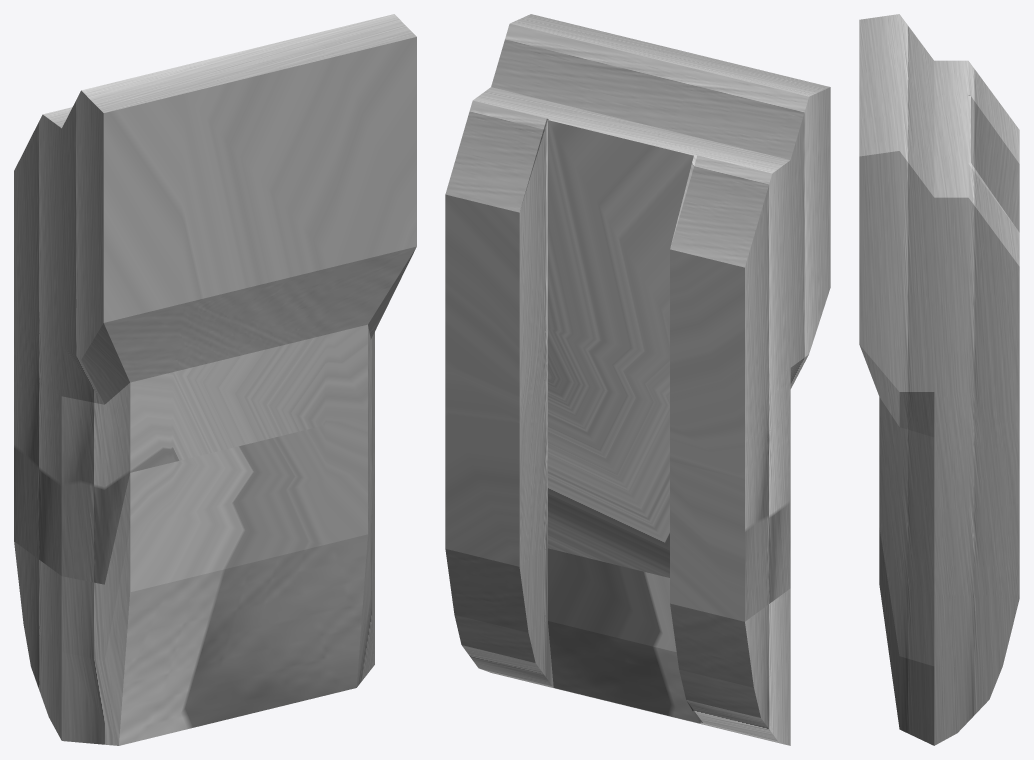
The model's file is tank-body.obj.
The picture shows the model from 3 angles, left to right: view 1: azimuth 30°, elevation 25°; view 2: azimuth 150°, elevation 25°; view 3: azimuth 270°, elevation 25°; orthographic projection. The views are drawn at different scales.
Size of the model in its own units: 8.04 by 16.31 by 3.99.
